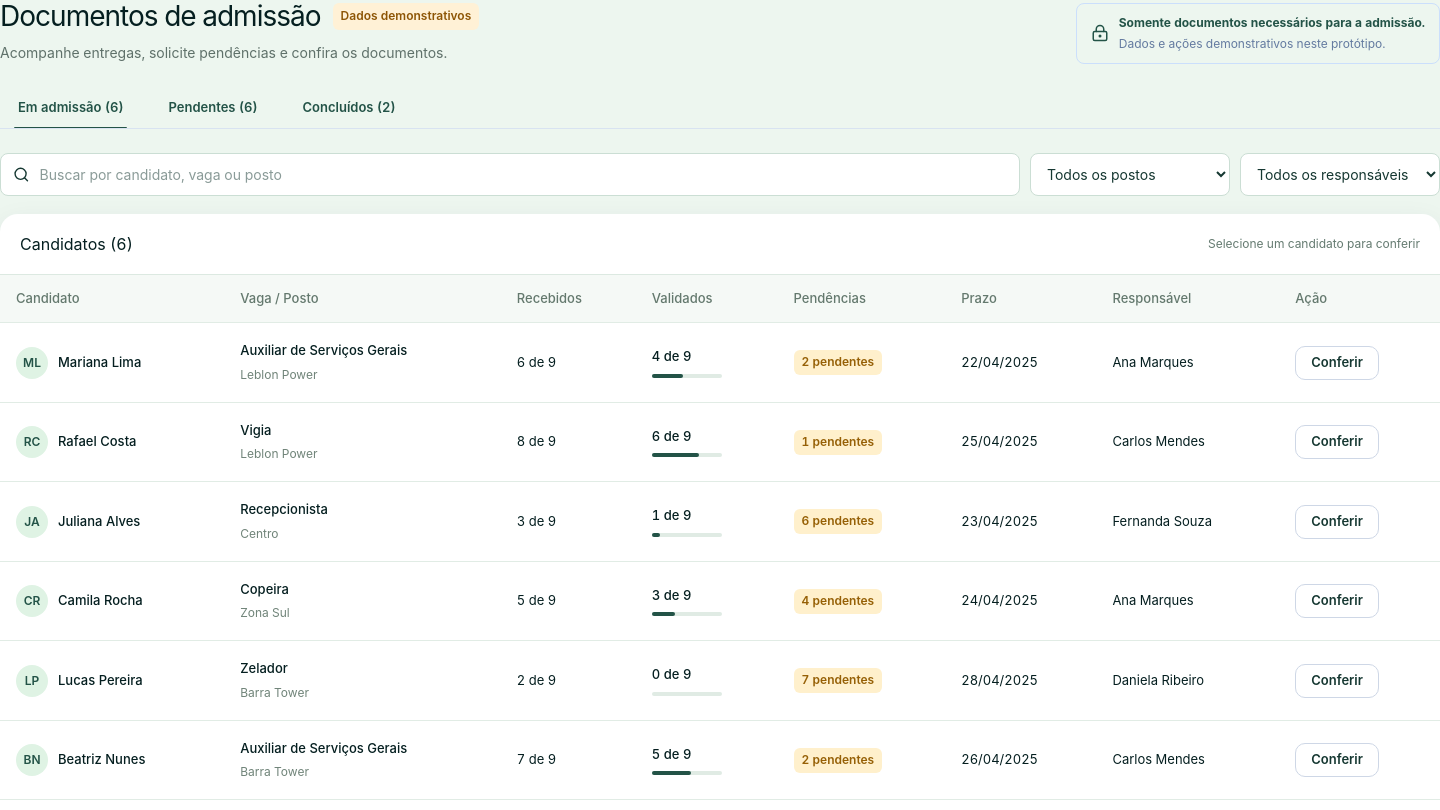
Test: Documentos de admissão › requests only missing items, never claims a real message was sent
Click the button with aria-label "Abrir documentos de Mariana Lima": (79, 363) [16,347,141,379]
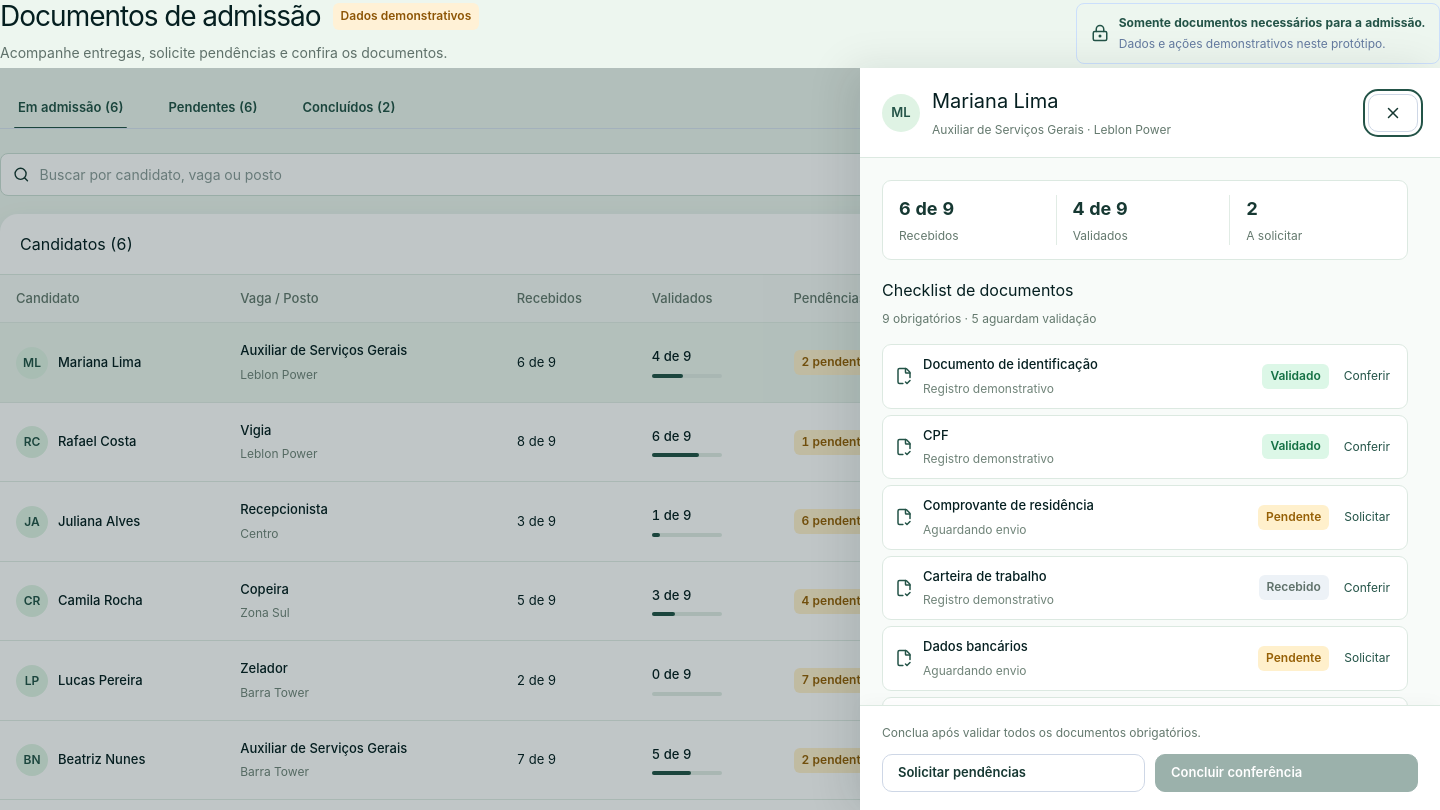
Click the button "Solicitar pendências": (1014, 773) [882,754,1145,792]
(page scrolled)
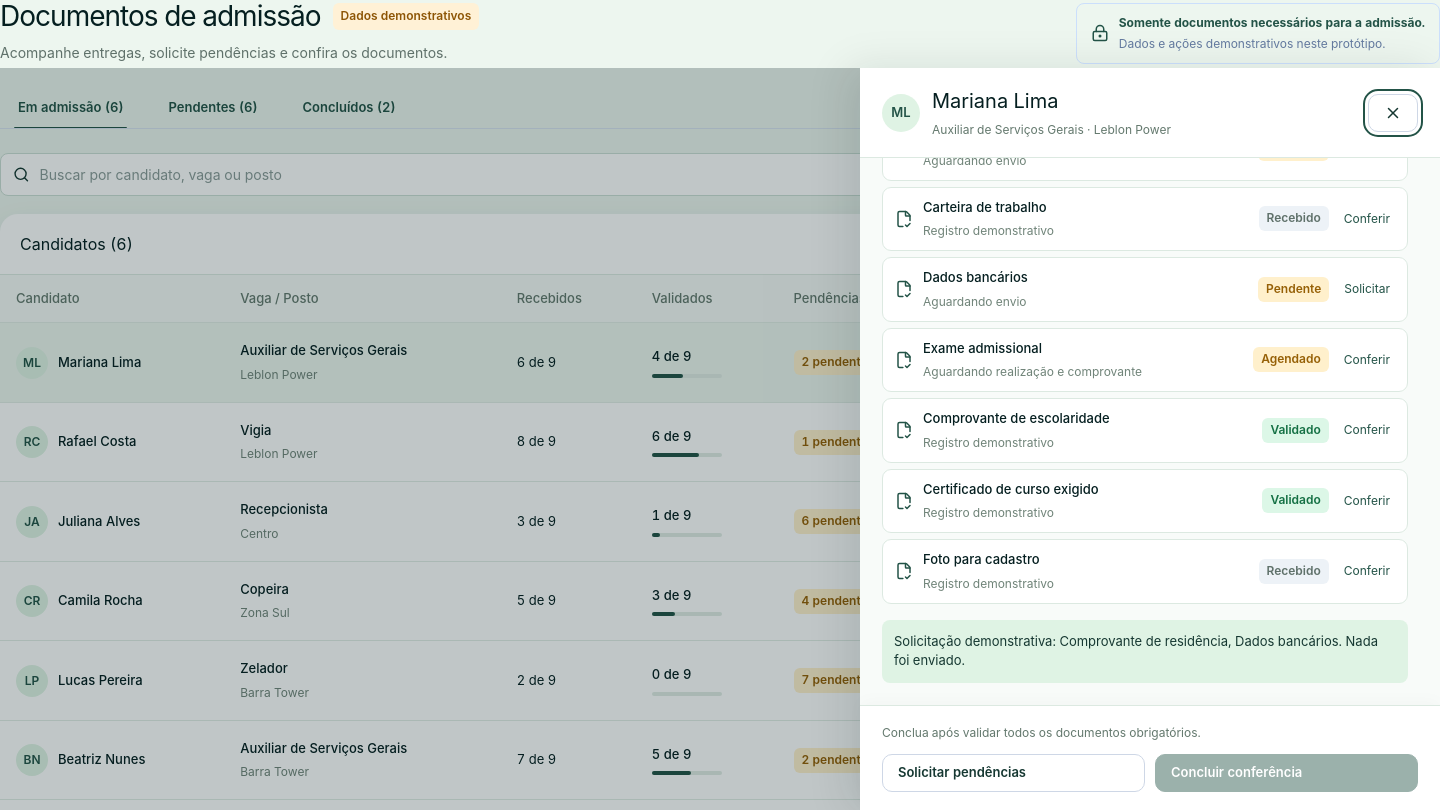
Now the message shows "Comprovante de residência, Dados bancários", box [894,632,1378,668]
Now the message shows "Nada foi enviado", box [894,632,1378,668]
Now the message no longer shows "CPF", box [882,620,1408,682]
